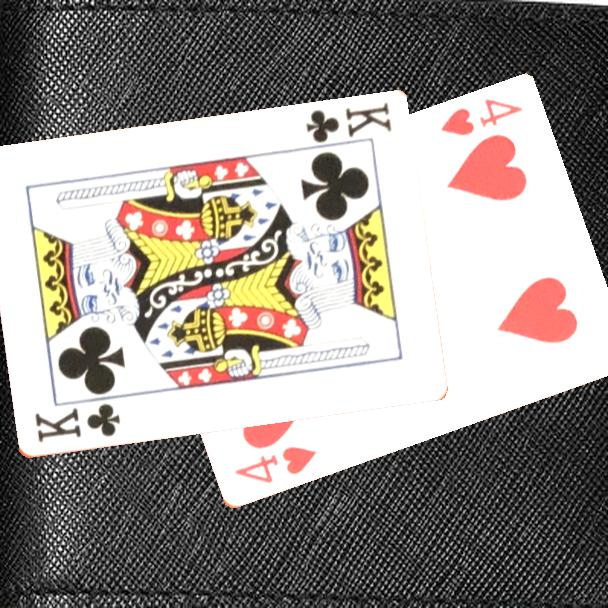c13: (302, 99, 394, 146), (31, 400, 123, 446)
h04: (437, 95, 526, 140), (231, 443, 319, 487)
